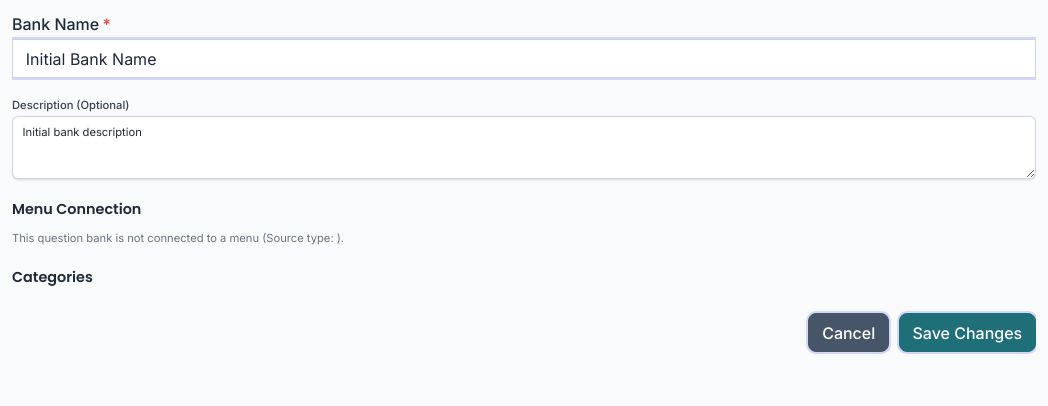
Test: EditQuestionBankForm › handles API error on submission and displays raw error message
This screenshot has width=1048, height=406.
Replace the text in the field labelled "Bank Name*" with "Another Name" at (524, 59), box x1=12 y1=39 x2=1036 y2=78
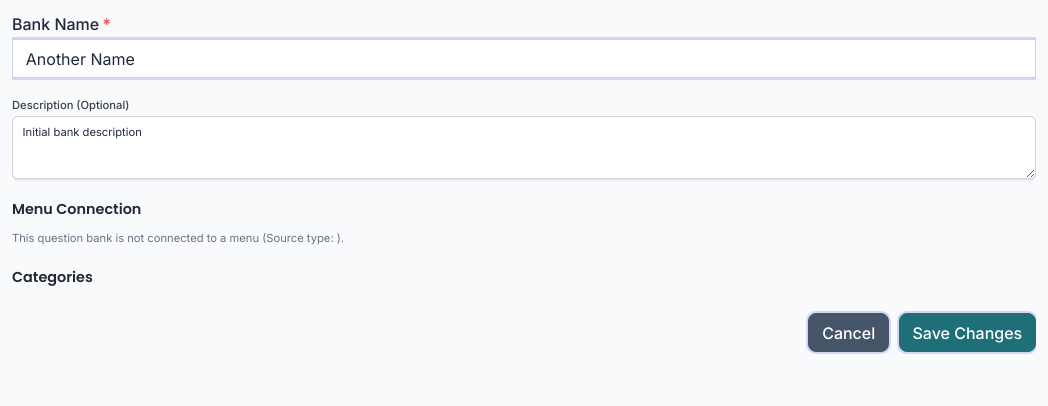
Click the button "Save Changes" at (967, 333), box x1=899 y1=314 x2=1036 y2=352
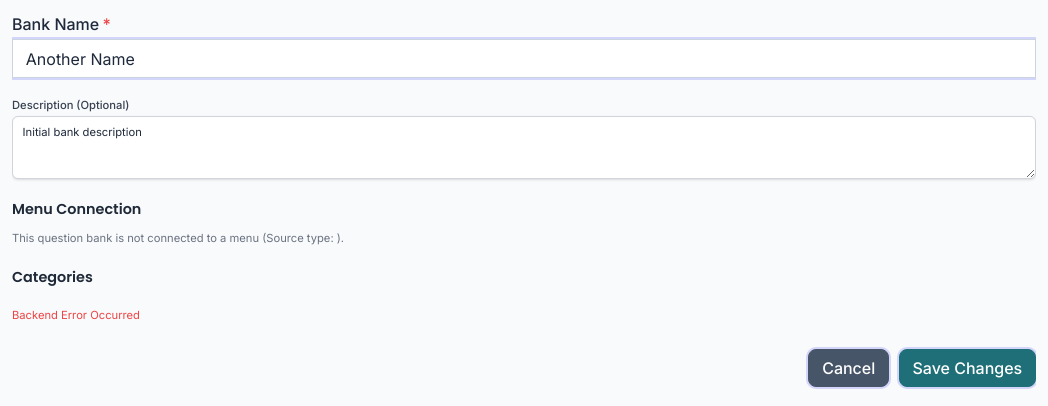
Result: the text "Backend Error Occurred" is shown at x1=12 y1=308 x2=140 y2=322
